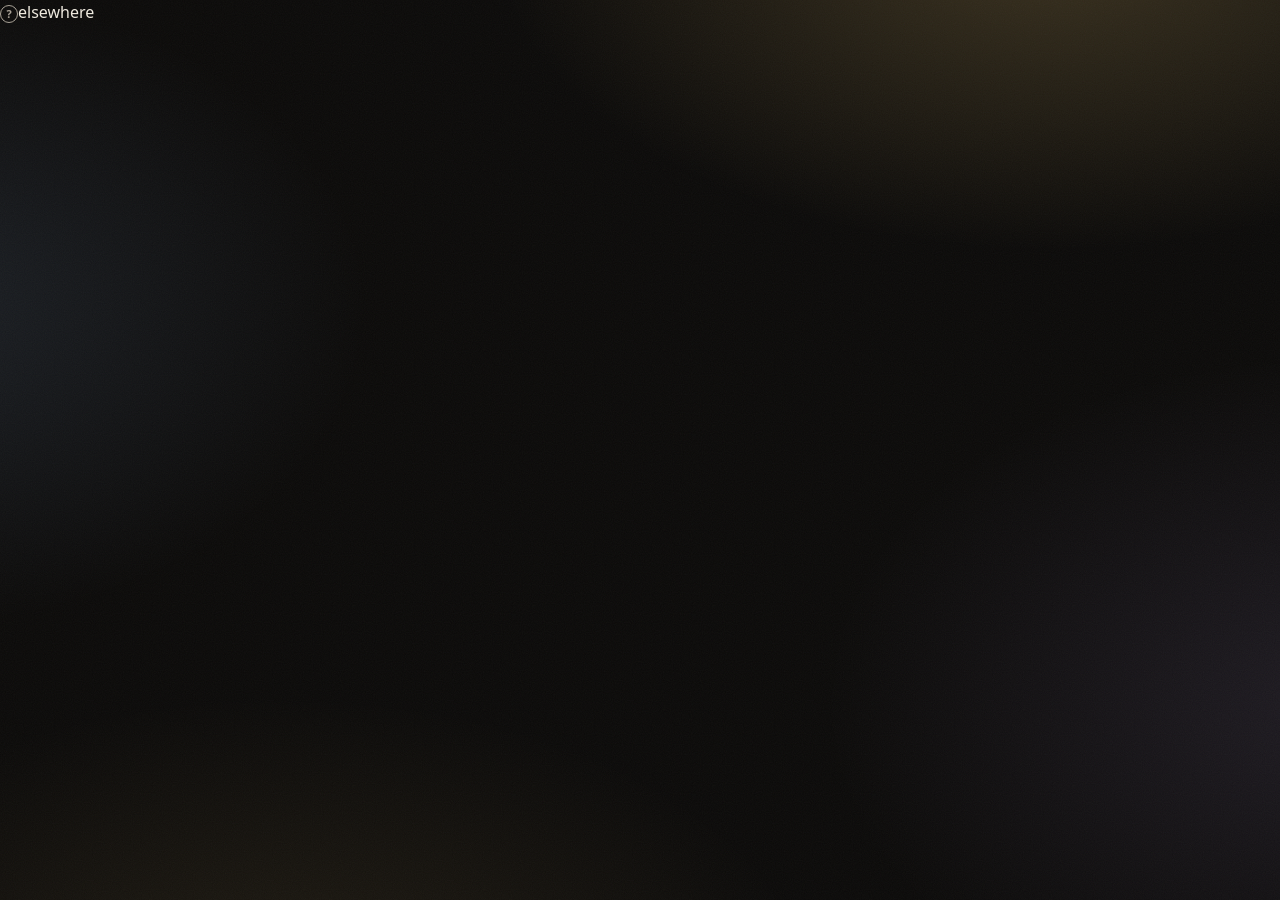
Test case: a tap anywhere else closes it
This screenshot has width=1280, height=900.
Click the button named "Lot": (9, 14) [0,5,18,23]
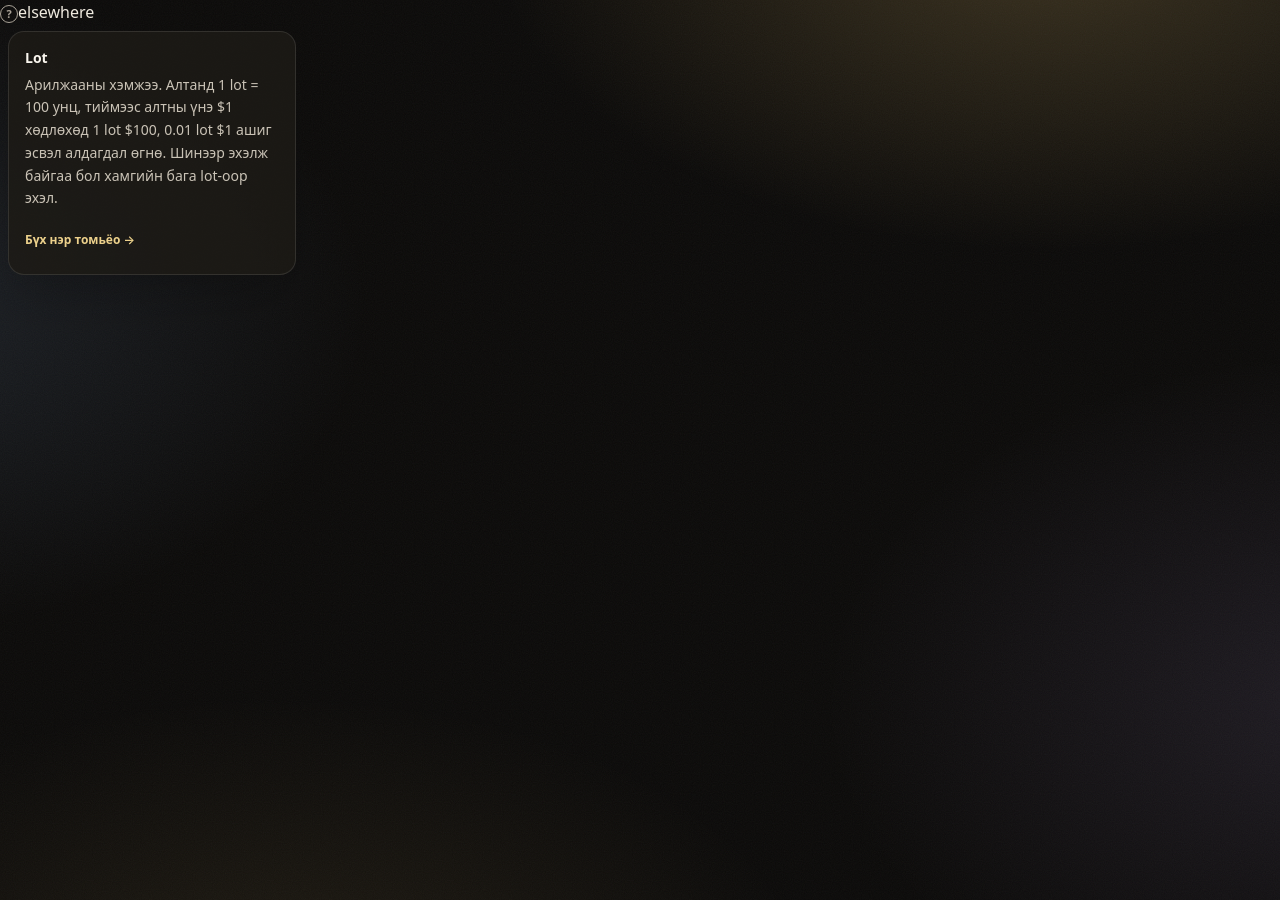
Press the mouse on the text "elsewhere": (56, 12) [18,1,94,23]
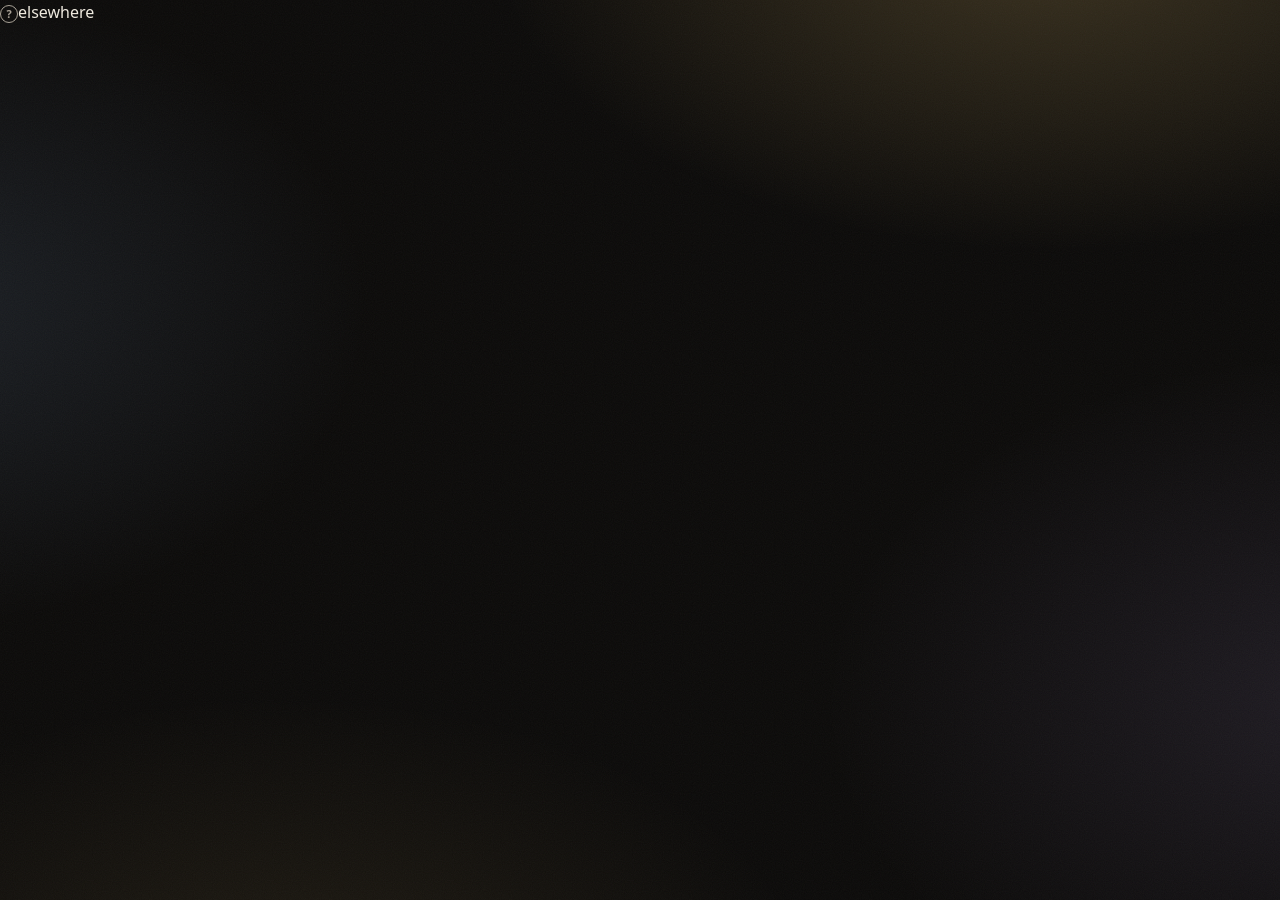
Expected: the dialog is gone
